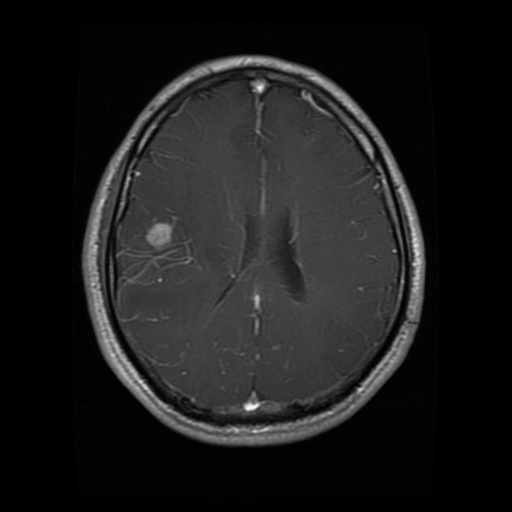glioma: (115, 204, 202, 288)
